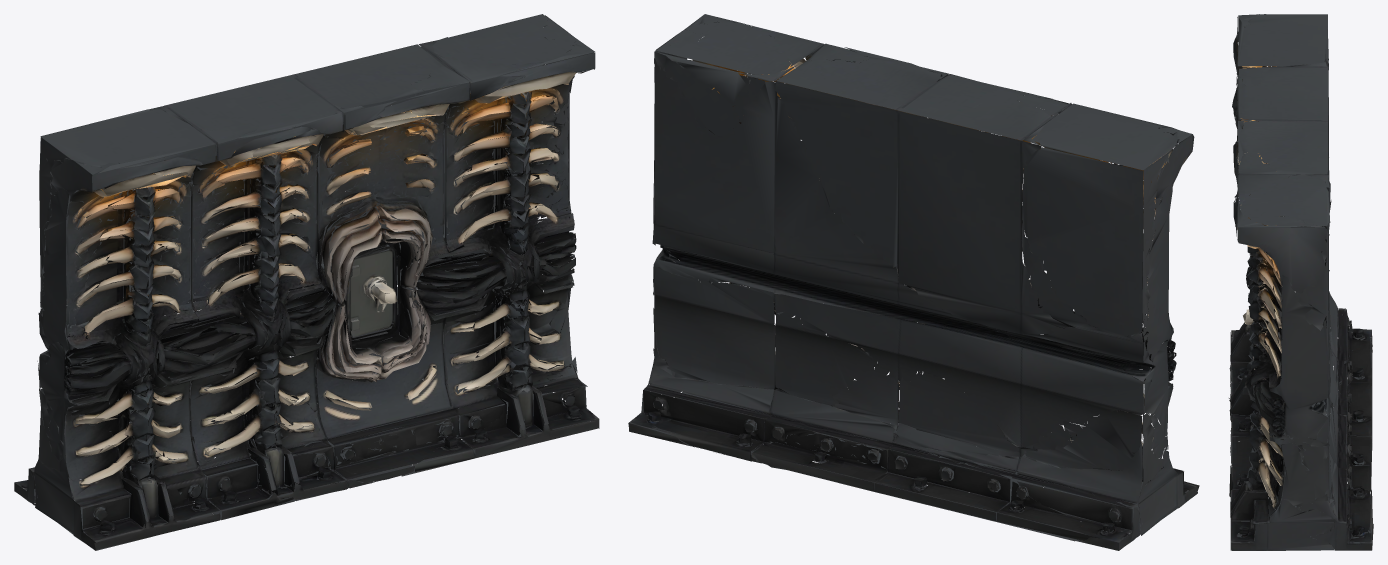
The model's file is wall_macro_straight_4.glb.
3 renders of one model, left to right at view 1: azimuth 30°, elevation 25°; view 2: azimuth 150°, elevation 25°; view 3: azimuth 270°, elevation 25°, orthographic. The views are drawn at different scales.
Parts seen in each view (by area): view 1: node_0; view 2: node_0; view 3: node_0.
Part boxes in pixels (<box>): node_0: <box>14,14,599,550</box>; node_0: <box>628,14,1199,550</box>; node_0: <box>1229,14,1373,550</box>.
Size of the model in its own units: 0.966 by 0.685 by 0.2757.
1 material, 1 textured.
